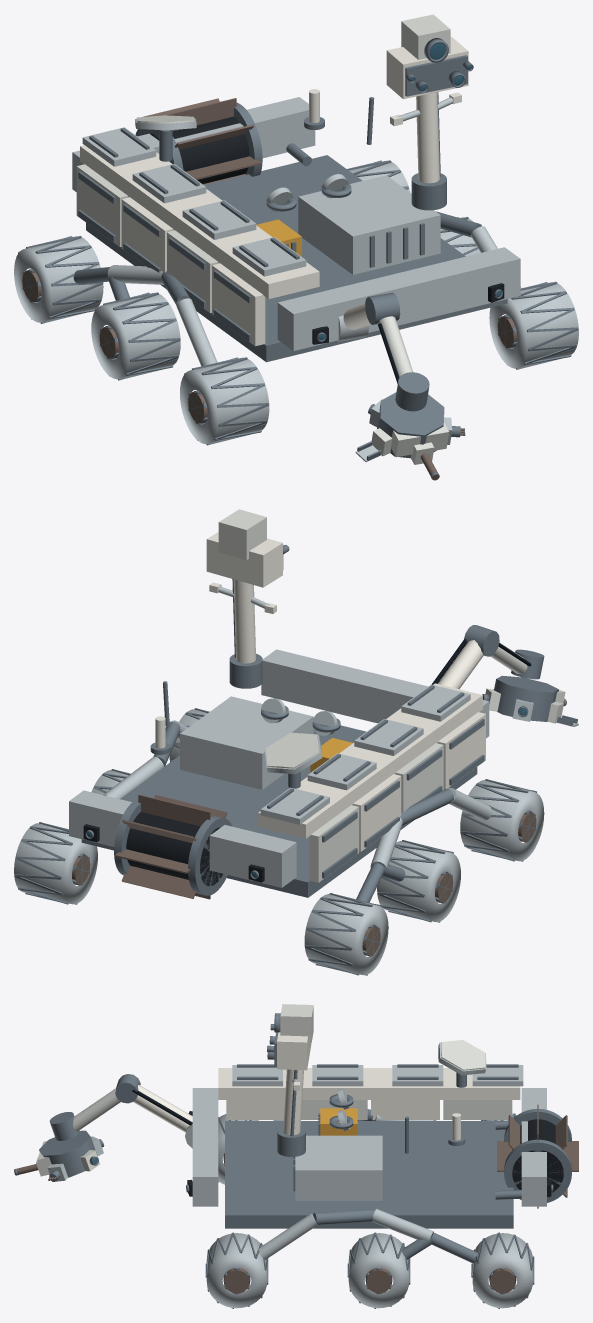
Rendered from curiosity_cutaway.glb.
3 renders of one model, top to bottom at view 1: azimuth 30°, elevation 25°; view 2: azimuth 150°, elevation 25°; view 3: azimuth 270°, elevation 25°, orthographic. The views are drawn at different scales.
Visible parts, largest first — view 1: curiosity_body.mesh_Machined_steel, curiosity_body.front_equipment.mesh_Satin_aluminum, curiosity_labs.cutaway.sam.mesh_Satin_aluminum, curiosity_body.deck.mesh_Warm_white_enamel, curiosity_mobility.rocker_left.steer_front.wheel_front.rim.m (×2), curiosity_mobility.rocker_left.bogie.axle_middle.wheel_middl (×2), curiosity_mobility.rocker_right.steer_front.wheel_front.rim. (×2), curiosity_body.deck.mesh_Satin_aluminum, curiosity_mobility.rocker_left.bogie.steer_rear.wheel_rear.r (×2), curiosity_body.mesh_Warm_white_enamel, curiosity_body.mesh_Pale_thermal_blanket, curiosity_body.rear_equipment.mesh_Satin_aluminum (+19 smaller); view 2: curiosity_body.mesh_Machined_steel, curiosity_labs.cutaway.sam.mesh_Satin_aluminum, curiosity_body.front_equipment.mesh_Satin_aluminum, curiosity_body.rear_equipment.mesh_Satin_aluminum, curiosity_mobility.rocker_left.bogie.steer_rear.wheel_rear.r (×2), curiosity_body.deck.mesh_Warm_white_enamel, curiosity_mobility.rocker_right.bogie.steer_rear.wheel_rear. (×2), curiosity_body.deck.mesh_Satin_aluminum, curiosity_mobility.rocker_left.steer_front.wheel_front.rim.m (×2), curiosity_mobility.rocker_left.bogie.axle_middle.wheel_middl (×2), curiosity_body.power_comms.mmrtg.mesh_Heat-stained_alloy, curiosity_body.mesh_Pale_thermal_blanket (+16 smaller); view 3: curiosity_body.mesh_Machined_steel, curiosity_labs.cutaway.sam.mesh_Satin_aluminum, curiosity_body.deck.mesh_Warm_white_enamel, curiosity_mobility.rocker_right.bogie.steer_rear.wheel_rear. (×3), curiosity_mobility.rocker_right.bogie.axle_middle.wheel_midd (×3), curiosity_mobility.rocker_right.steer_front.wheel_front.rim. (×3), curiosity_body.deck.mesh_Satin_aluminum, curiosity_body.front_equipment.mesh_Satin_aluminum, curiosity_body.mesh_Warm_white_enamel, curiosity_body.rear_equipment.mesh_Satin_aluminum, curiosity_body.power_comms.mmrtg.mesh_Machined_steel, curiosity_body.mesh_Pale_thermal_blanket (+18 smaller).
Part boxes in pixels (<box>): curiosity_body.mesh_Machined_steel: <box>78,155,507,362</box>; curiosity_body.front_equipment.mesh_Satin_aluminum: <box>277,247,520,350</box>; curiosity_labs.cutaway.sam.mesh_Satin_aluminum: <box>298,175,440,274</box>; curiosity_body.deck.mesh_Warm_white_enamel: <box>80,145,319,299</box>; curiosity_mobility.rocker_left.steer_front.wheel_front.rim.m (×2): <box>180,357,269,445</box>; curiosity_mobility.rocker_left.bogie.axle_middle.wheel_middl (×2): <box>91,292,180,380</box>; curiosity_mobility.rocker_right.steer_front.wheel_front.rim. (×2): <box>489,281,578,369</box>; curiosity_body.deck.mesh_Satin_aluminum: <box>82,127,306,276</box>; curiosity_mobility.rocker_left.bogie.steer_rear.wheel_rear.r (×2): <box>14,236,103,323</box>; curiosity_body.mesh_Warm_white_enamel: <box>121,197,265,346</box>; curiosity_body.mesh_Pale_thermal_blanket: <box>76,164,219,313</box>; curiosity_body.rear_equipment.mesh_Satin_aluminum: <box>72,97,315,191</box>; curiosity_body.mesh_Machined_steel: <box>81,718,484,897</box>; curiosity_labs.cutaway.sam.mesh_Satin_aluminum: <box>180,696,313,789</box>; curiosity_body.front_equipment.mesh_Satin_aluminum: <box>261,649,489,738</box>; curiosity_body.rear_equipment.mesh_Satin_aluminum: <box>69,790,296,887</box>; curiosity_mobility.rocker_left.bogie.steer_rear.wheel_rear.r (×2): <box>304,893,388,975</box>; curiosity_body.deck.mesh_Warm_white_enamel: <box>258,683,482,838</box>; curiosity_mobility.rocker_right.bogie.steer_rear.wheel_rear. (×2): <box>14,822,97,904</box>; curiosity_body.deck.mesh_Satin_aluminum: <box>260,684,470,824</box>; curiosity_mobility.rocker_left.steer_front.wheel_front.rim.m (×2): <box>460,779,544,861</box>; curiosity_mobility.rocker_left.bogie.axle_middle.wheel_middl (×2): <box>377,840,460,922</box>; curiosity_body.power_comms.mmrtg.mesh_Heat-stained_alloy: <box>114,794,227,899</box>; curiosity_body.mesh_Pale_thermal_blanket: <box>309,743,443,882</box>; curiosity_body.mesh_Machined_steel: <box>225,1121,513,1228</box>; curiosity_labs.cutaway.sam.mesh_Satin_aluminum: <box>295,1135,382,1200</box>; curiosity_body.deck.mesh_Warm_white_enamel: <box>218,1068,520,1099</box>; curiosity_mobility.rocker_right.bogie.steer_rear.wheel_rear. (×3): <box>471,1232,534,1308</box>; curiosity_mobility.rocker_right.bogie.axle_middle.wheel_midd (×3): <box>347,1232,410,1308</box>; curiosity_mobility.rocker_right.steer_front.wheel_front.rim. (×3): <box>205,1232,268,1308</box>; curiosity_body.deck.mesh_Satin_aluminum: <box>232,1065,523,1086</box>; curiosity_body.front_equipment.mesh_Satin_aluminum: <box>192,1088,218,1206</box>; curiosity_body.mesh_Warm_white_enamel: <box>226,1100,439,1119</box>; curiosity_body.rear_equipment.mesh_Satin_aluminum: <box>521,1088,546,1206</box>; curiosity_body.power_comms.mmrtg.mesh_Machined_steel: <box>504,1109,571,1202</box>; curiosity_body.mesh_Pale_thermal_blanket: <box>301,1100,512,1119</box>.
Size of the model in its own units: 2.8 by 2.37 by 4.65.
